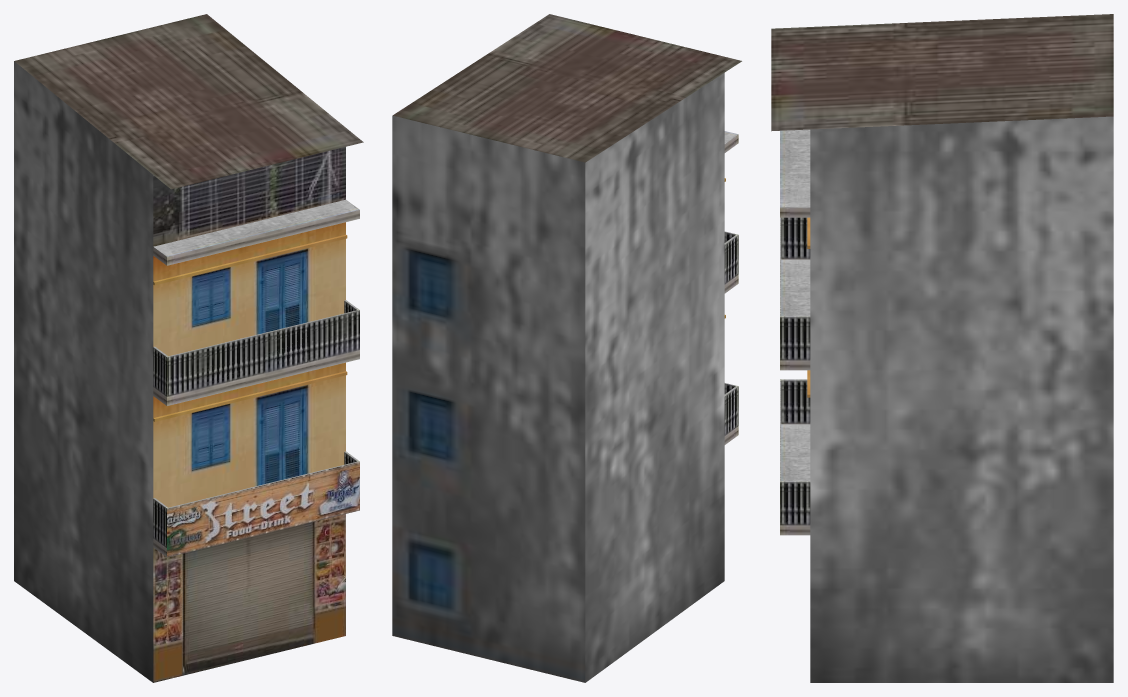
3 views of the same model, side by side, from view 1: azimuth 30°, elevation 25°; view 2: azimuth 150°, elevation 25°; view 3: azimuth 270°, elevation 25° (orthographic). The views are drawn at different scales.
Parts seen in each view (by area): view 1: HN978_StreetFood_Drink; view 2: HN978_StreetFood_Drink; view 3: HN978_StreetFood_Drink.
Part boxes in pixels (bbox=[...]): HN978_StreetFood_Drink: bbox=[14, 14, 363, 682]; HN978_StreetFood_Drink: bbox=[392, 14, 741, 682]; HN978_StreetFood_Drink: bbox=[771, 14, 1113, 682].
Bounding box in the file's own units: 4 × 10.31 × 5.64.
Materials: 1 (1 with a texture image).
